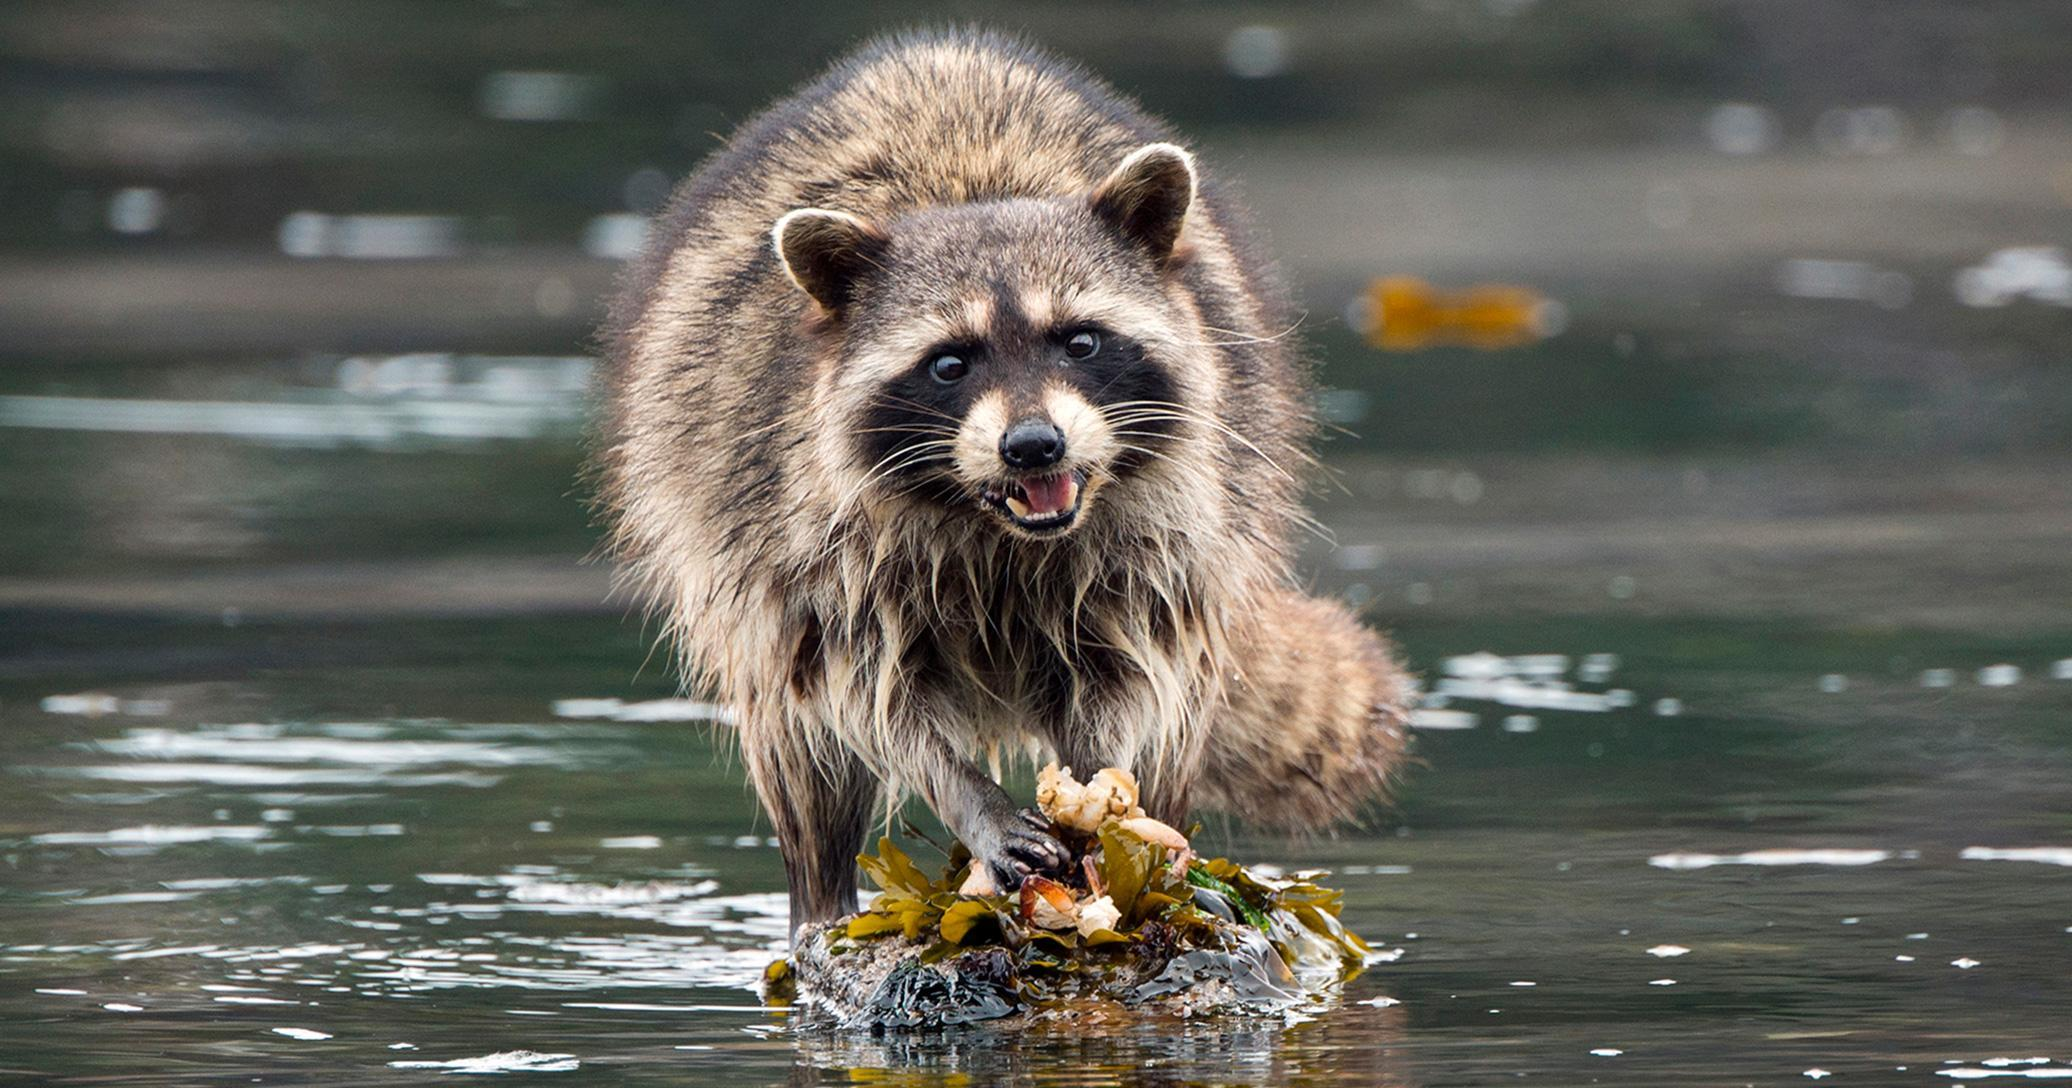raccoon: (602, 18, 1411, 913)
